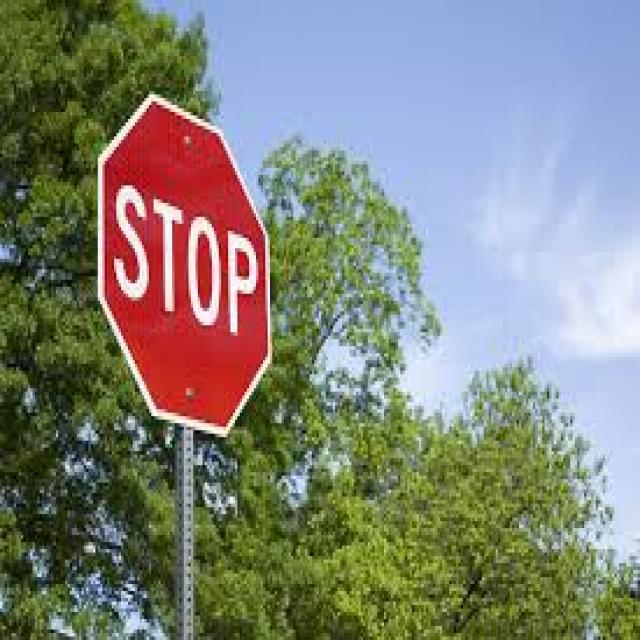stop-sign: (79, 66, 317, 486)
